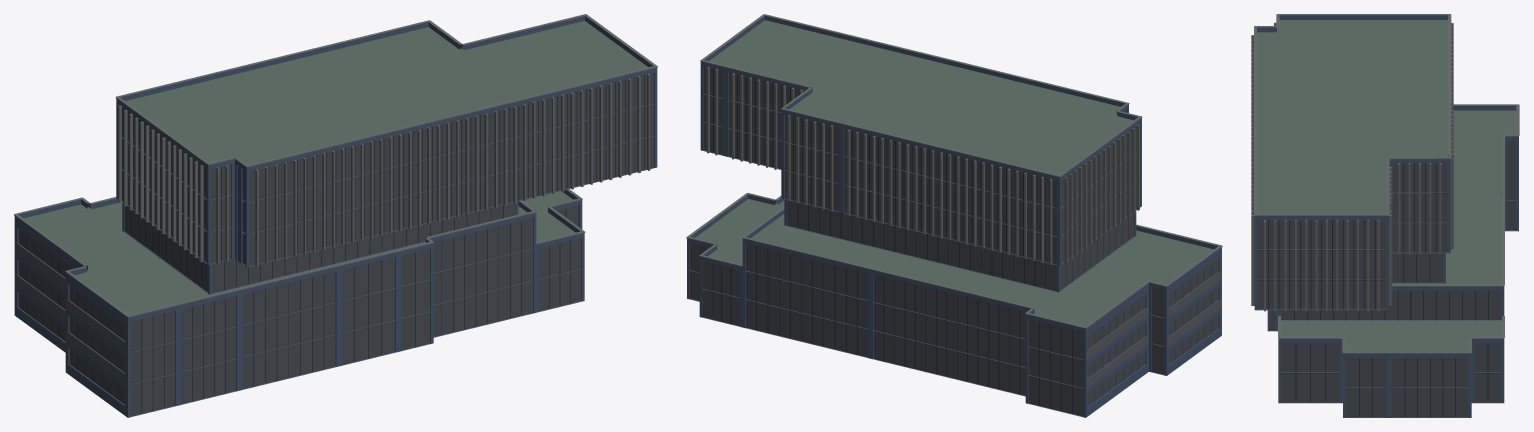
The picture shows the model from 3 angles, left to right: view 1: azimuth 30°, elevation 25°; view 2: azimuth 150°, elevation 25°; view 3: azimuth 270°, elevation 25°; orthographic projection. The views are drawn at different scales.
Visible parts, largest first — view 1: sungdeok__glass, sungdeok__roof, sungdeok__trim, sungdeok__wall, sungdeok__frame, sungdeok__parapet, sungdeok__wall2; view 2: sungdeok__glass, sungdeok__roof, sungdeok__trim, sungdeok__wall, sungdeok__frame, sungdeok__parapet, sungdeok__wall2; view 3: sungdeok__roof, sungdeok__glass, sungdeok__trim, sungdeok__wall, sungdeok__parapet, sungdeok__frame.
Boxes of the visible parts, box(x1,y1,x2,y2) form: sungdeok__glass: box(18, 73, 653, 416); sungdeok__roof: box(17, 21, 647, 417); sungdeok__trim: box(14, 14, 657, 317); sungdeok__wall: box(14, 71, 657, 417); sungdeok__frame: box(26, 75, 653, 413); sungdeok__parapet: box(14, 16, 657, 321); sungdeok__wall2: box(14, 242, 127, 385); sungdeok__glass: box(690, 66, 1218, 416); sungdeok__roof: box(687, 20, 1219, 417); sungdeok__trim: box(686, 14, 1222, 328); sungdeok__wall: box(687, 65, 1221, 417); sungdeok__frame: box(693, 68, 1211, 413); sungdeok__parapet: box(687, 15, 1221, 332); sungdeok__wall2: box(1086, 270, 1221, 388); sungdeok__roof: box(1257, 20, 1518, 403); sungdeok__glass: box(1257, 141, 1515, 417); sungdeok__trim: box(1251, 14, 1519, 353); sungdeok__wall: box(1254, 140, 1518, 417); sungdeok__parapet: box(1254, 15, 1518, 357); sungdeok__frame: box(1258, 163, 1515, 417).
Size of the model in its own units: 65.37 by 27.22 by 30.64.
